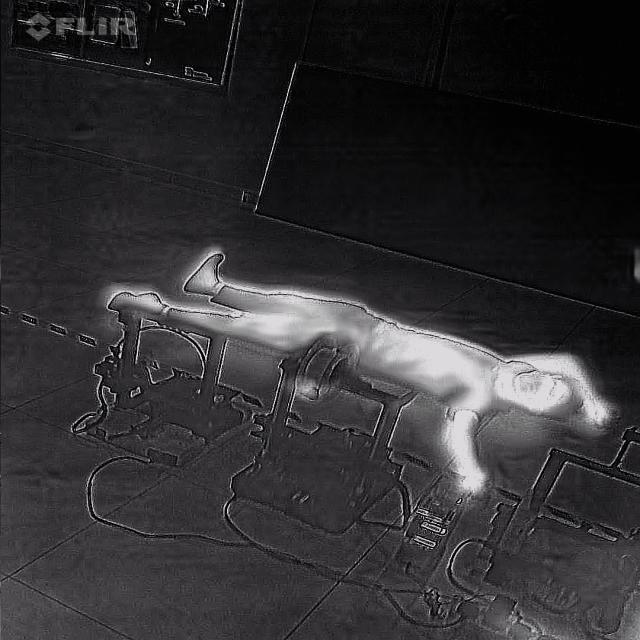Victim: (85, 238, 620, 502)
